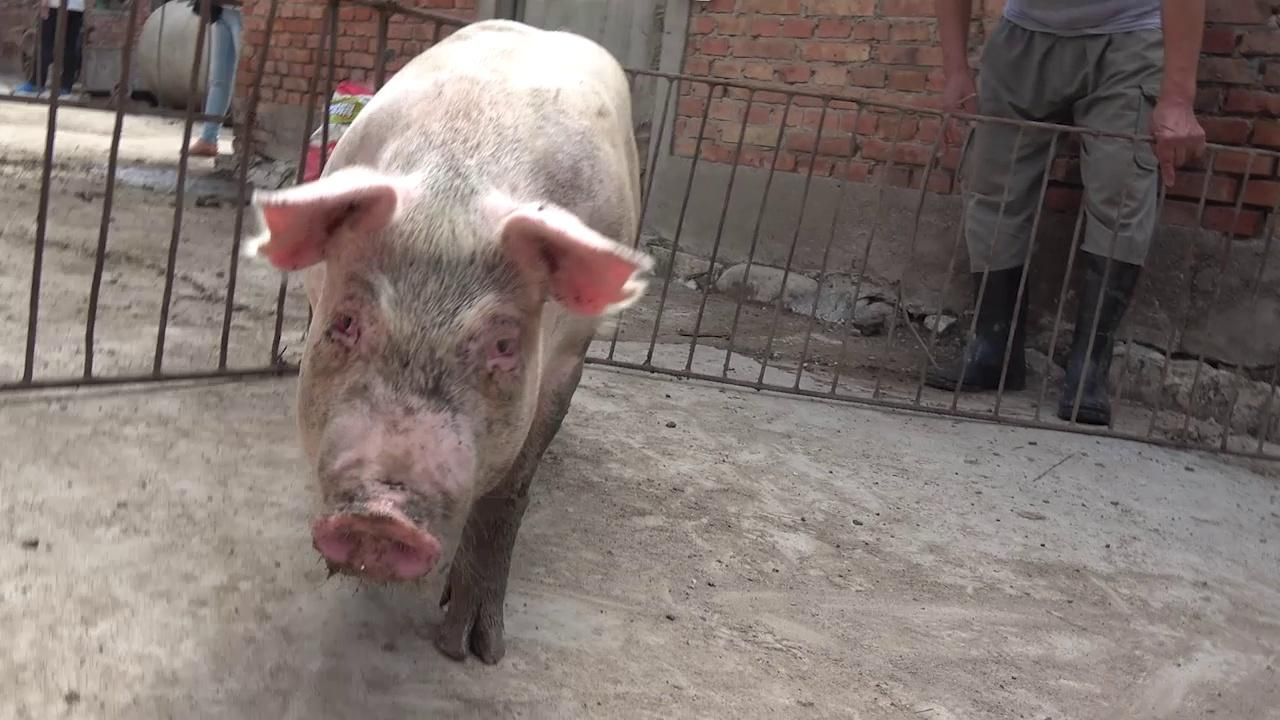Face: (237, 177, 652, 596)
